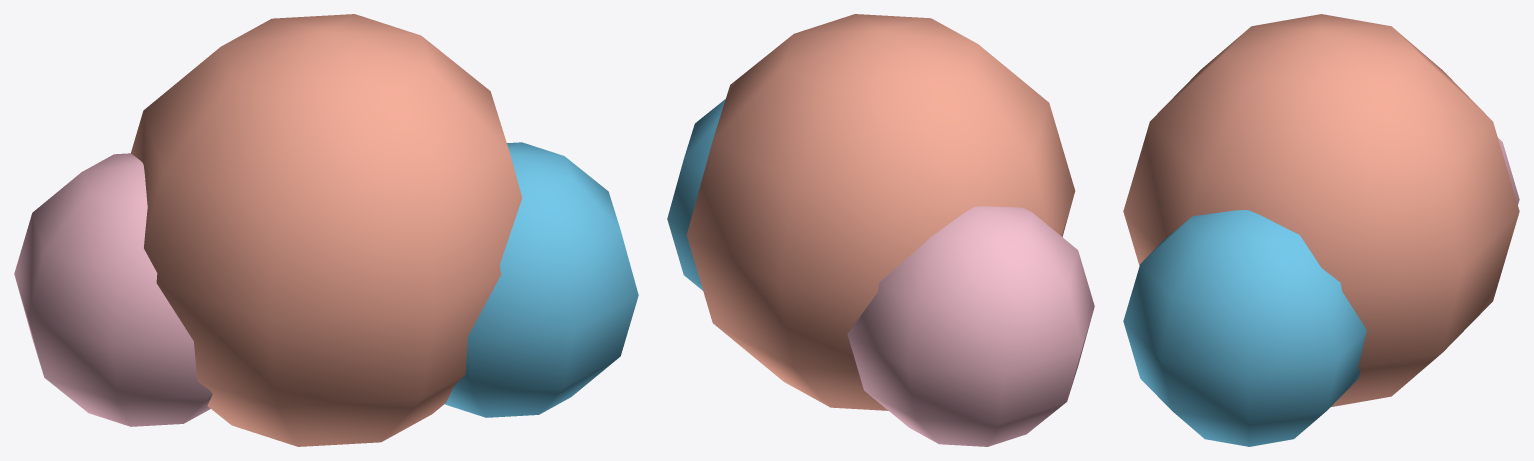
Rendered from coral_rock.glb.
The picture shows the model from 3 angles, left to right: view 1: azimuth 30°, elevation 25°; view 2: azimuth 150°, elevation 25°; view 3: azimuth 270°, elevation 25°; orthographic projection. The views are drawn at different scales.
Parts seen in each view (by area): view 1: coral_c, coral_l, coral_r; view 2: coral_c, coral_l, coral_r; view 3: coral_c, coral_r.
Boxes of the visible parts, <box> form: coral_c: <box>131,14,522,446</box>; coral_l: <box>14,153,212,426</box>; coral_r: <box>444,142,638,417</box>; coral_c: <box>686,14,1075,410</box>; coral_l: <box>847,206,1094,446</box>; coral_r: <box>667,99,725,290</box>; coral_c: <box>1123,14,1519,406</box>; coral_r: <box>1123,210,1366,446</box>.
Bounding box in the file's own units: 0.6 × 0.44 × 0.44.
